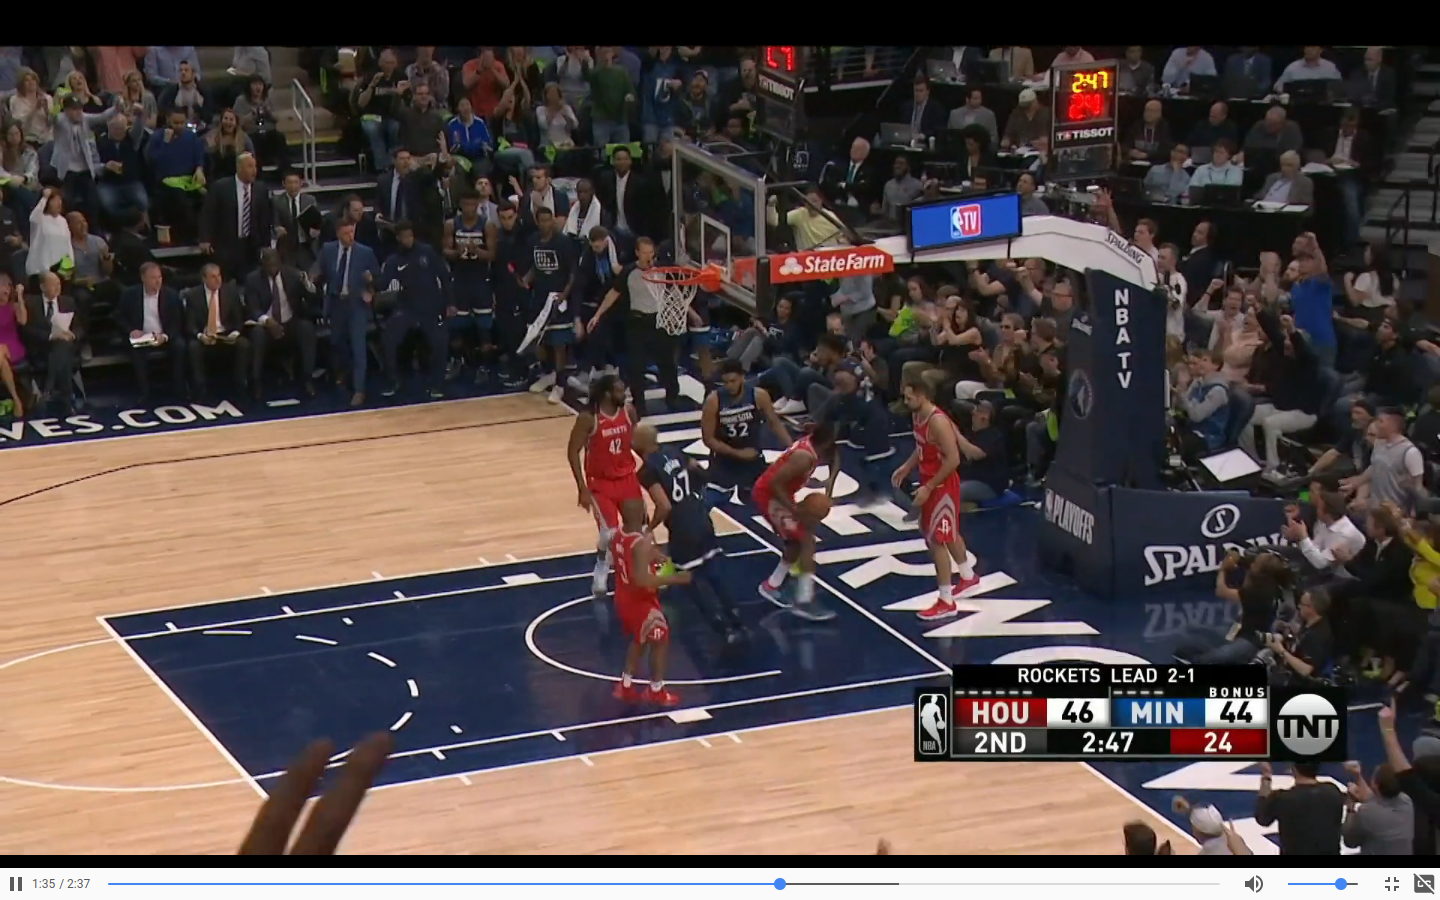ball: (805, 495, 829, 518)
player: (633, 431, 750, 657), (902, 402, 985, 617), (759, 426, 837, 628), (581, 379, 635, 593), (609, 497, 660, 702), (705, 373, 762, 489)
